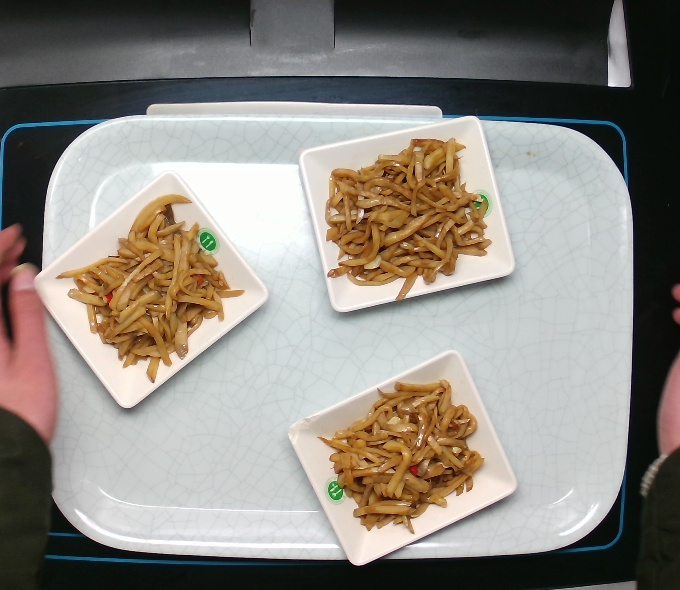wcq-LiangBanMoGu: (54, 192, 250, 388), (322, 130, 498, 307), (313, 374, 490, 539)
